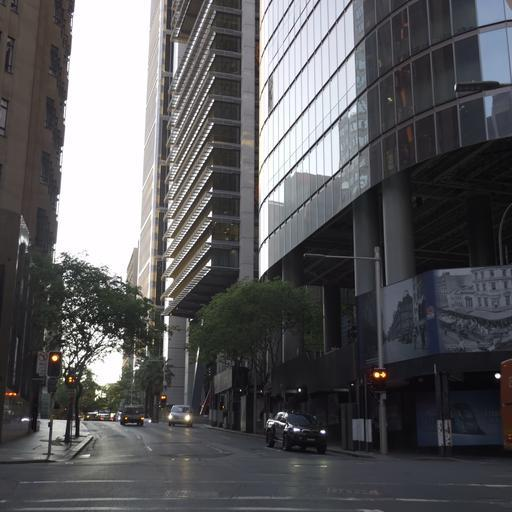Street light: (302, 249, 388, 453), (44, 350, 62, 457), (453, 79, 511, 93)
